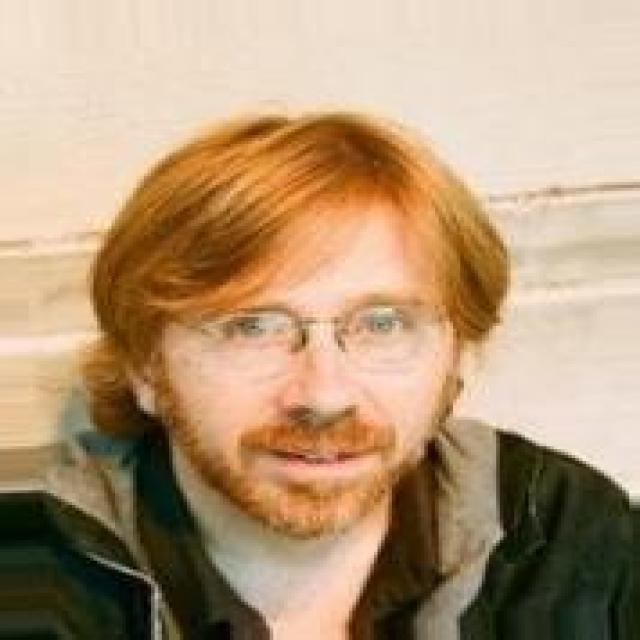bareface: (110, 189, 466, 537)
